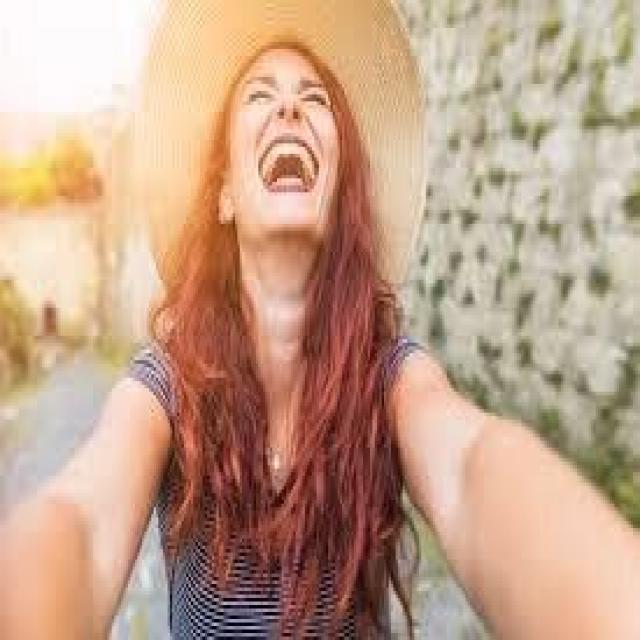person: (21, 17, 628, 633)
